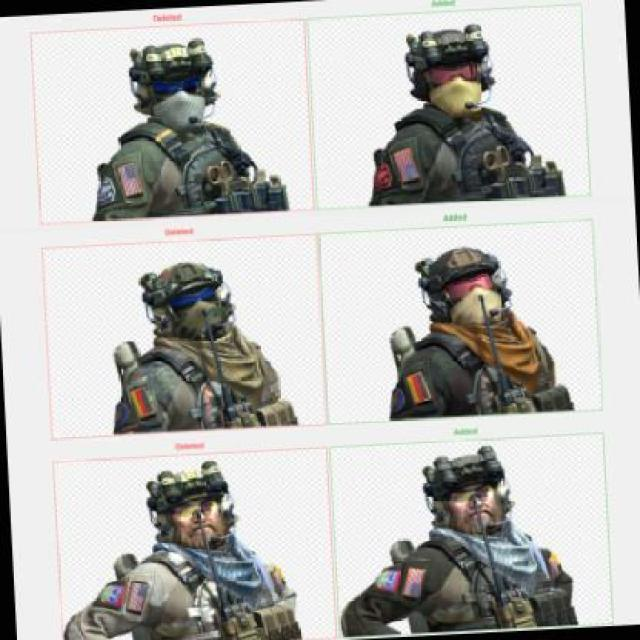MIL_Pax: (328, 441, 580, 636), (49, 451, 305, 638), (76, 30, 292, 222), (359, 18, 566, 212), (96, 252, 299, 434), (374, 237, 577, 418)
